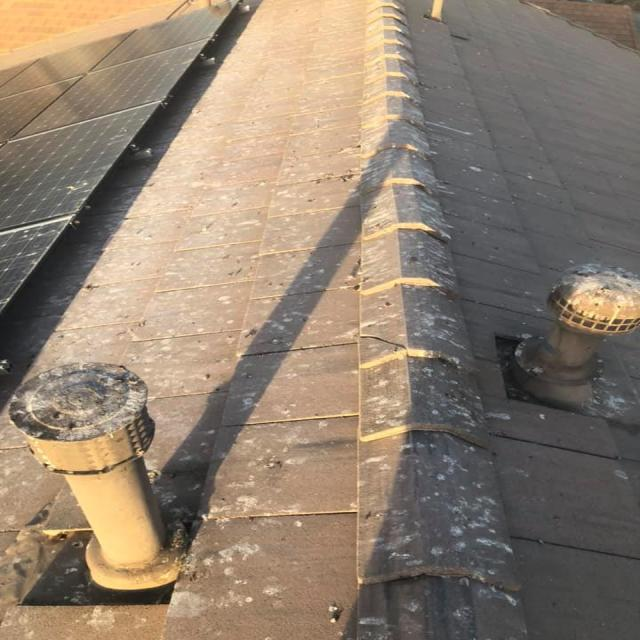dust-solar-panel: (0, 4, 240, 313)
